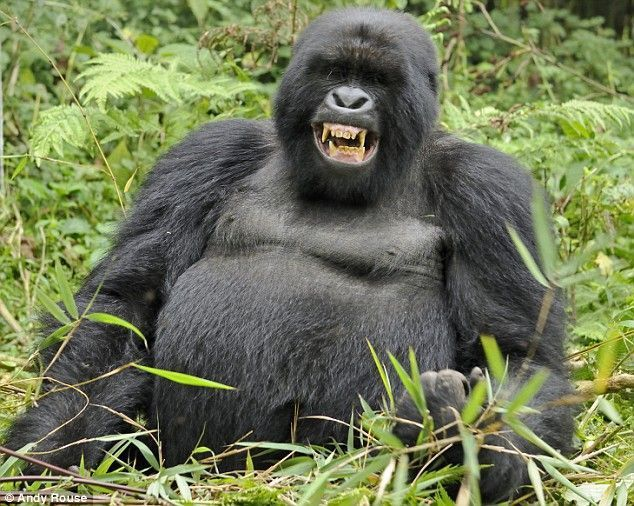Gorilla: (98, 16, 570, 475)
